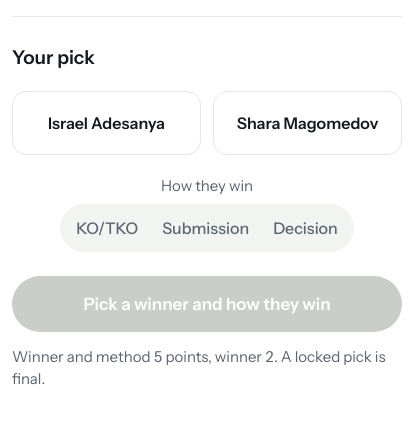
Test: submit failures › shows the saved pick after a 409
This screenshot has width=414, height=447.
Check: the element named "Pick a winner" is shown, box [12, 91, 402, 155]
Click the button "Shara Magomedov" at (308, 123), box [213, 91, 402, 155]
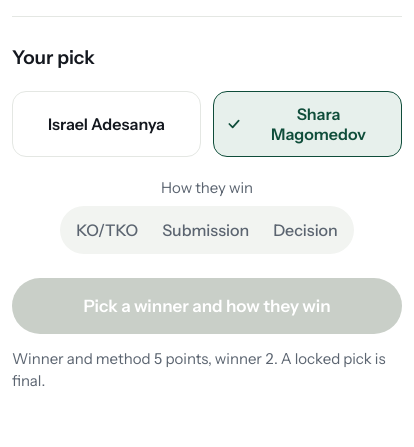
Click the button "Decision" at (305, 230), box [261, 210, 350, 250]
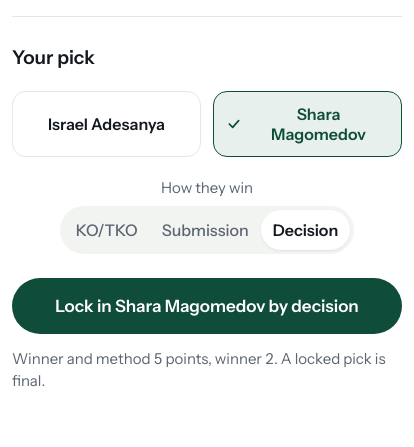
Click the button "Lock in Shara Magomedov by decision" at (207, 306), box [12, 278, 402, 334]
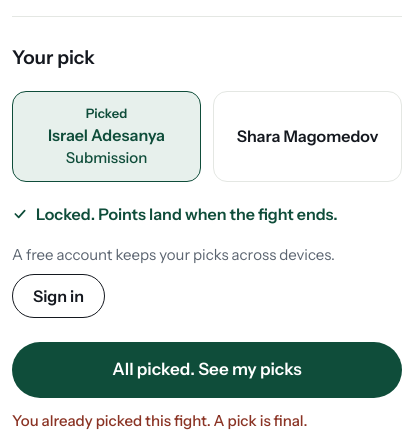
Check: the message "You already picked this fight. A pick is final." is shown, box [12, 411, 308, 430]
Check: the text "Locked. Points land when the fight ends." is shown, box [36, 202, 338, 226]
Check: the button "Lock in" is gone
